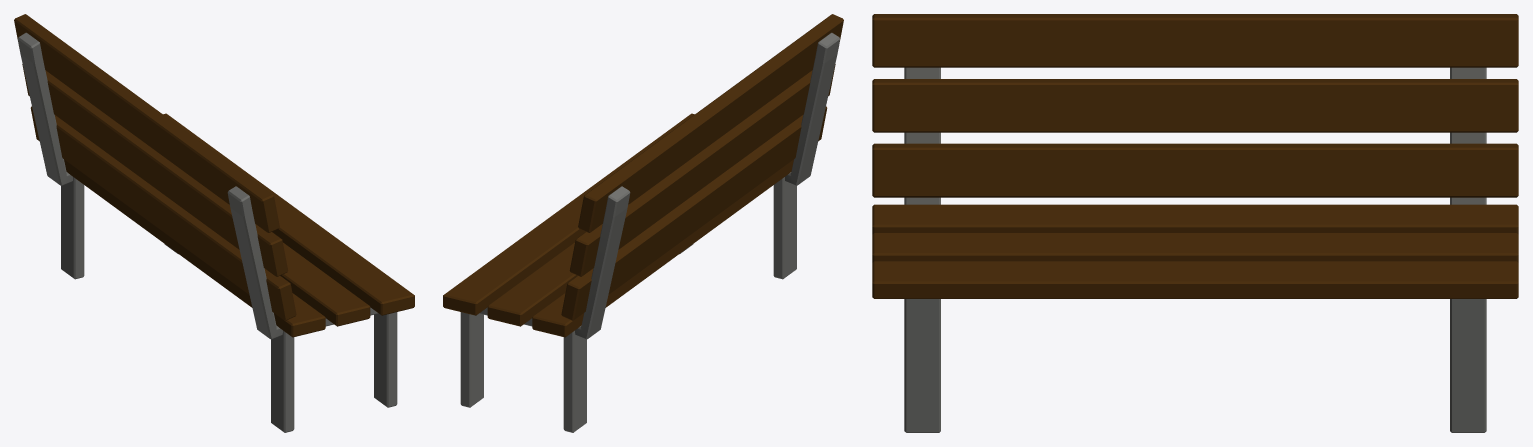
Rendered from bench.fbx.
3 views of the same model, side by side, from view 1: azimuth 30°, elevation 25°; view 2: azimuth 150°, elevation 25°; view 3: azimuth 270°, elevation 25° (orthographic). The views are drawn at different scales.
Parts seen in each view (by area): view 1: bench; view 2: bench; view 3: bench.
Part boxes in pixels (<box>): bench: <box>14,14,414,432</box>; bench: <box>443,14,843,432</box>; bench: <box>872,14,1518,432</box>.
Bounding box in the file's own units: 124 × 185 × 330.
